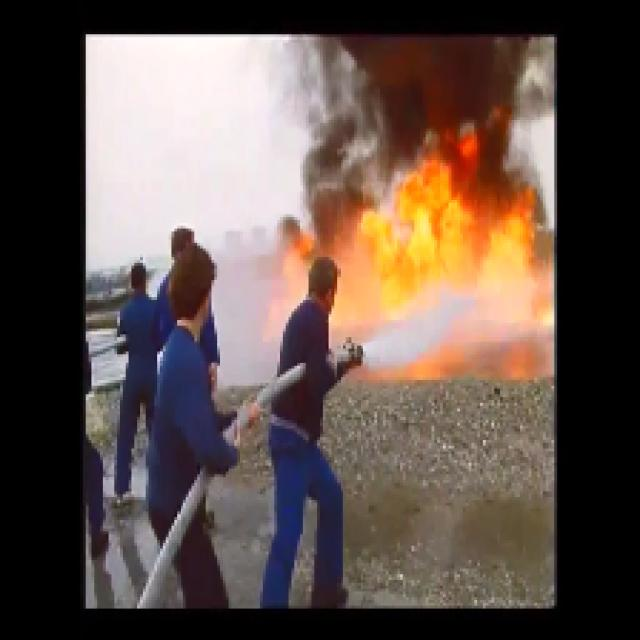fire: (380, 184, 470, 277)
smoke: (348, 40, 507, 122)
